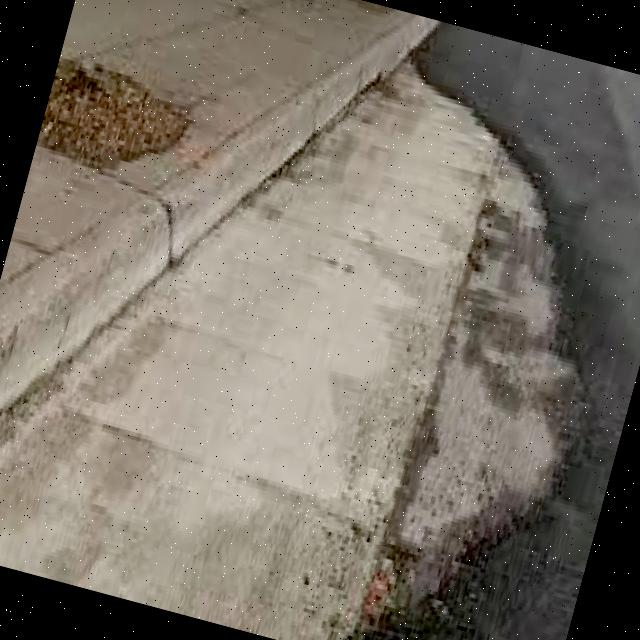curb: (1, 166, 171, 490), (170, 33, 365, 298), (350, 7, 439, 110)
